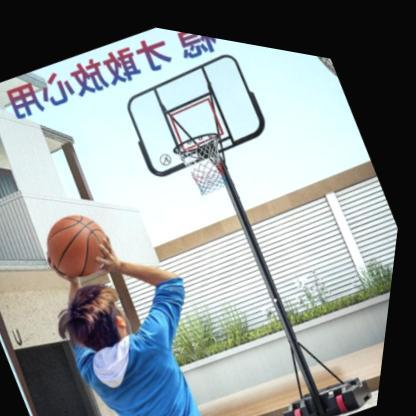basketball: (37, 195, 127, 288)
rim: (168, 115, 243, 196)
